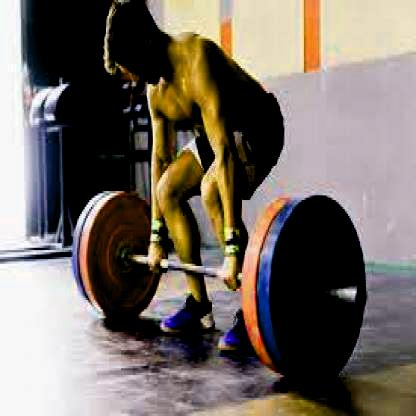Barbell: (351, 278, 372, 313)
